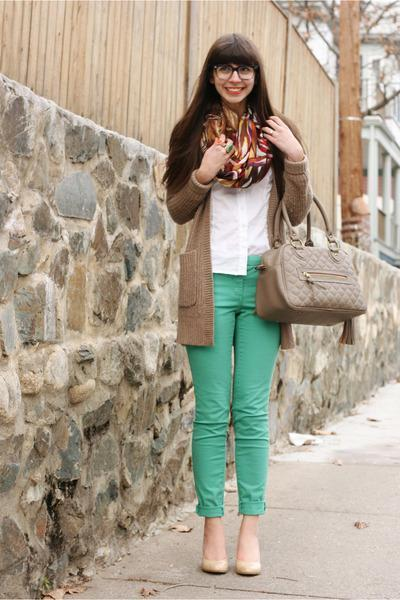bag: (255, 215, 366, 355)
jacket: (164, 162, 310, 346)
pants: (182, 273, 275, 517)
shirt: (210, 180, 271, 274)
